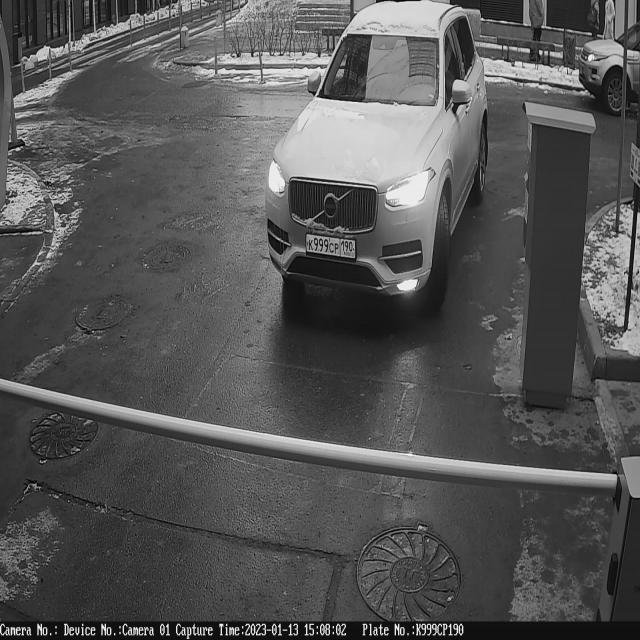car-plate-numbers: (304, 228, 359, 266)
